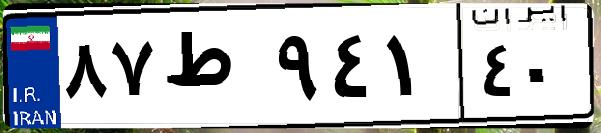0: (525, 38, 570, 115)
1: (385, 28, 445, 110)
4: (330, 28, 385, 110), (475, 38, 525, 113)
7: (110, 28, 158, 98)
8: (57, 26, 110, 100)
9: (270, 28, 330, 110)
ط: (158, 20, 270, 120)
